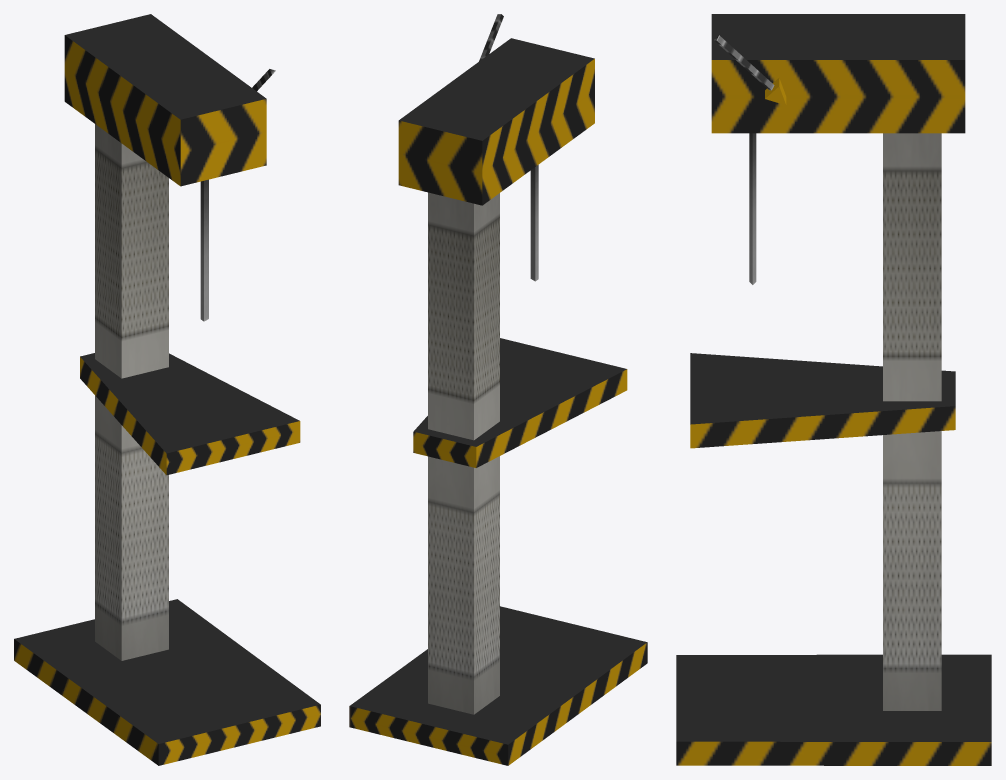
The model's file is Drill_Press.fbx.
The picture shows the model from 3 angles, left to right: view 1: azimuth 30°, elevation 25°; view 2: azimuth 150°, elevation 25°; view 3: azimuth 270°, elevation 25°; orthographic projection. The views are drawn at different scales.
Visible parts, largest first — view 1: Drill_Press_1; view 2: Drill_Press_1; view 3: Drill_Press_1.
Part boxes in pixels (bbox=[...]): Drill_Press_1: bbox=[14, 14, 320, 765]; Drill_Press_1: bbox=[349, 14, 647, 765]; Drill_Press_1: bbox=[676, 14, 991, 765].
Size of the model in its own units: 49.67 by 189 by 75.83.
